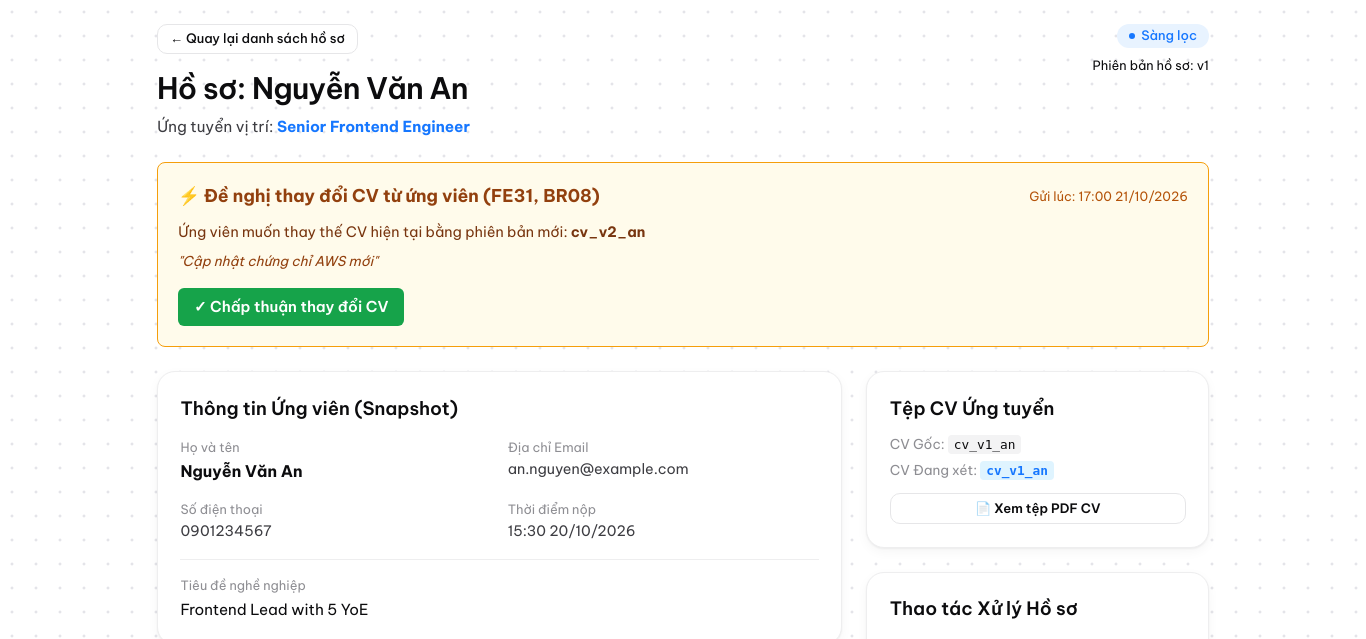
Test: RecruiterApplicationDetailPage (UI20, UI23, FE31) › handles CV change approval (FE31, UC06, BR08)
Expected: the heading "⚡ Đề nghị thay đổi CV từ ứng viên (FE31, BR08)" is shown, [178,183,600,210]
Click the button with test id "approve-cv-change-btn".
click(291, 307)  # box [178,288,404,326]
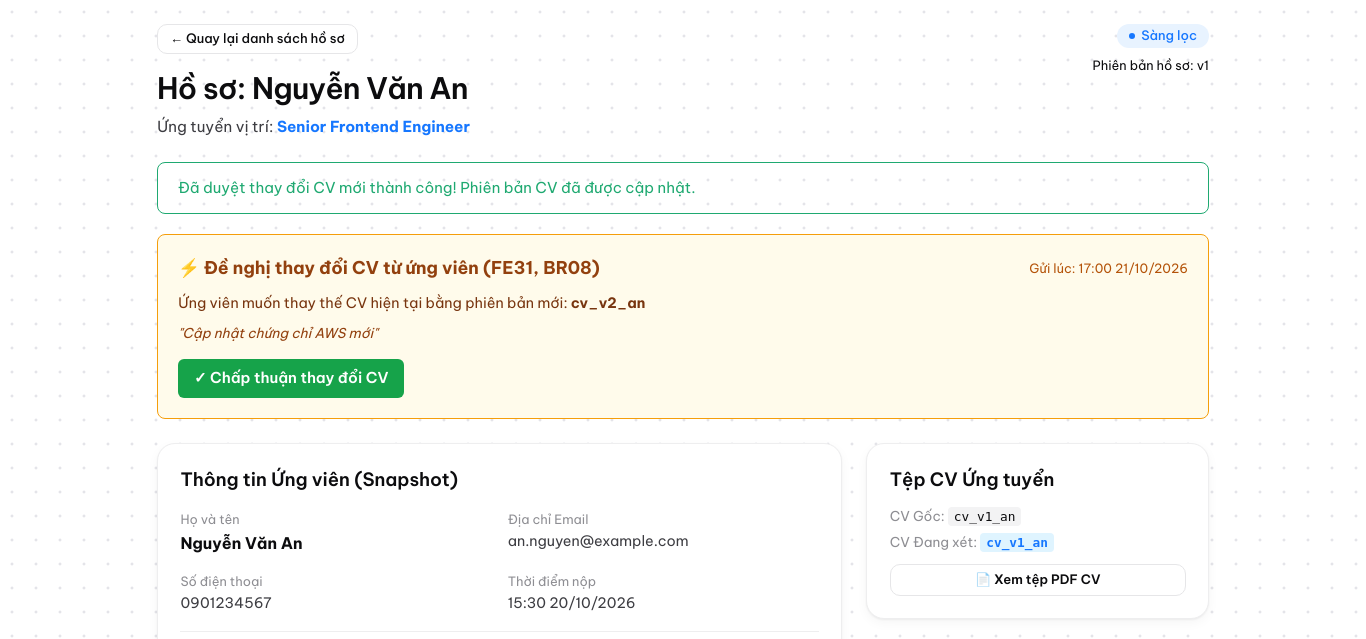
Now the text "Đã duyệt thay đổi CV mới thành công! Phiên bản CV đã được cập nhật." is shown, box [157,162,1209,214]
